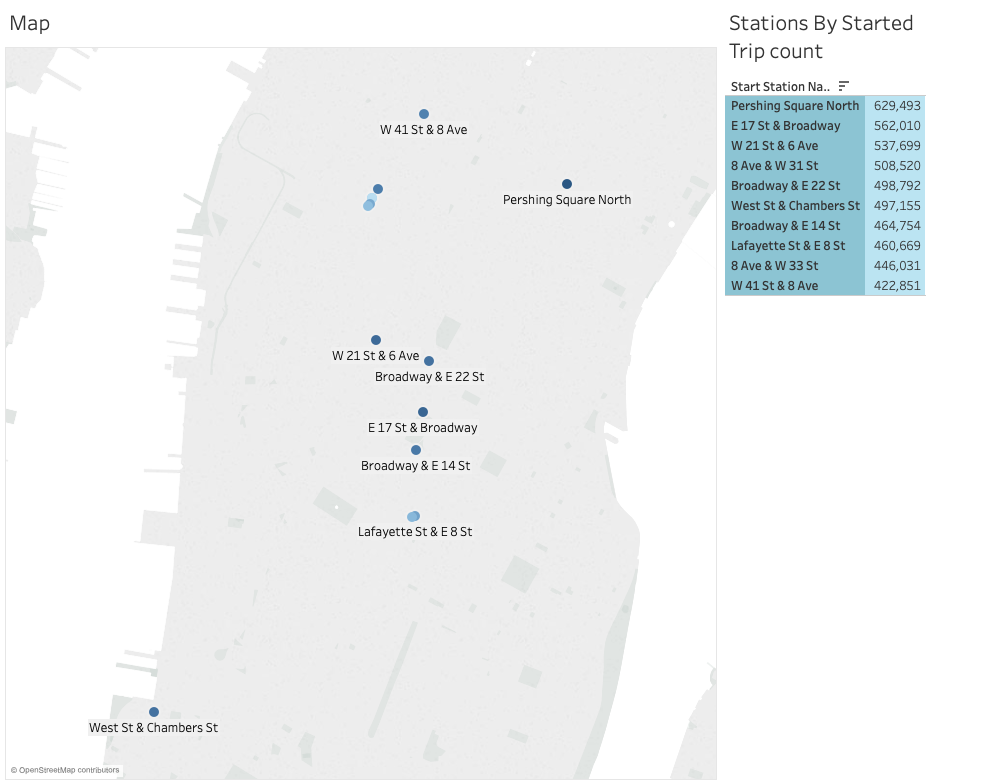

Layout of this report page (visuals, bound fields, positions):
{"tool":"tableau","page":{"name":"Top Starting Stations","canvas":[1000,800],"ordinal":0},"visuals":[{"type":"worksheet","title":"Map","mark":"Automatic","rows":["start_station_latitude"],"cols":["start_station_longitude"],"box":[8,8,720,784]},{"type":"worksheet","title":"Stations By Started Trip count","mark":"Automatic","rows":["end_station_name"],"box":[728,8,264,784]}]}

Visuals, with their boxes in screenshot pixels (x1, y1, x2, y2), scaled from the page's 1000x800 canvas onto the 982x783 screenshot:
"Map" worksheet: (8,8,715,775)
"Stations By Started Trip count" worksheet: (715,8,974,775)
